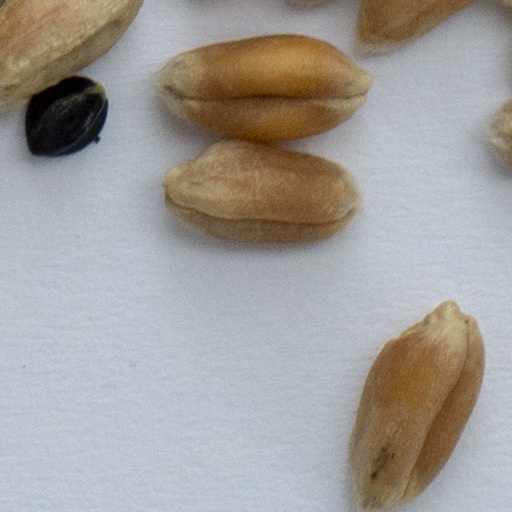Fallopia-Convolvulus-poly: (23, 77, 106, 154)
